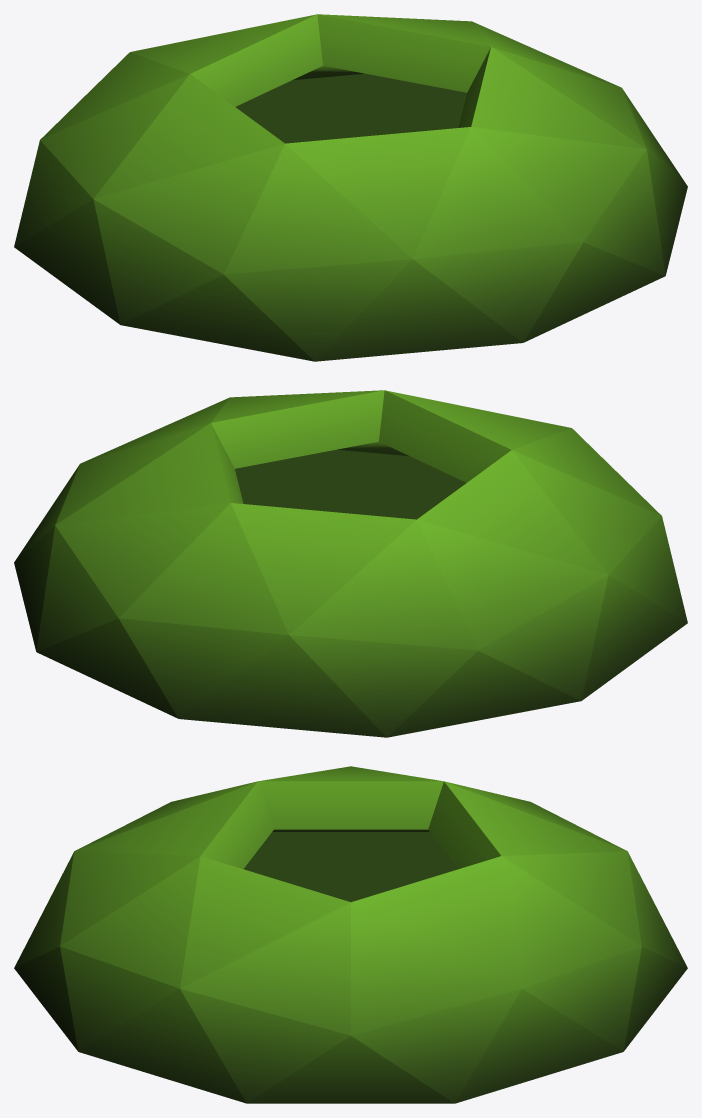
File: TreeBase_Bush_DarkGreen.fbx
3 views of the same model, one above another, from view 1: azimuth 30°, elevation 25°; view 2: azimuth 150°, elevation 25°; view 3: azimuth 270°, elevation 25° (orthographic). The views are drawn at different scales.
Visible parts, largest first — view 1: TreeBase_Bush_DarkGreen; view 2: TreeBase_Bush_DarkGreen; view 3: TreeBase_Bush_DarkGreen.
Boxes of the visible parts, bbox=[...] form: TreeBase_Bush_DarkGreen: bbox=[14, 14, 687, 361]; TreeBase_Bush_DarkGreen: bbox=[14, 390, 687, 737]; TreeBase_Bush_DarkGreen: bbox=[14, 766, 687, 1103].
Size of the model in its own units: 265 by 60.58 by 279.
